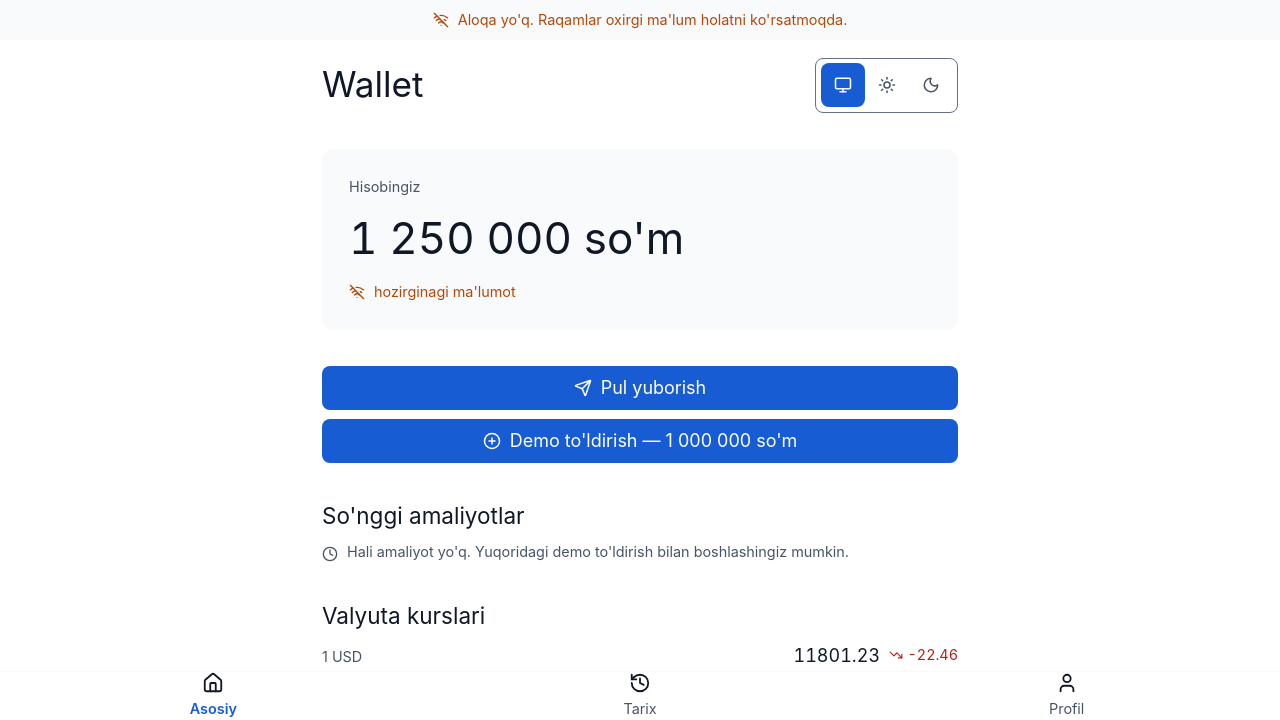
Test: a top-up that cannot be sent › is queued rather than lost, and says so without claiming it happened
Expected: the heading "Wallet" is shown, x1=322 y1=58 x2=424 y2=110
Step 1. Click the button "Demo to'ldirish — 1 000 000 so'm" → (640, 441), box x1=322 y1=419 x2=958 y2=463
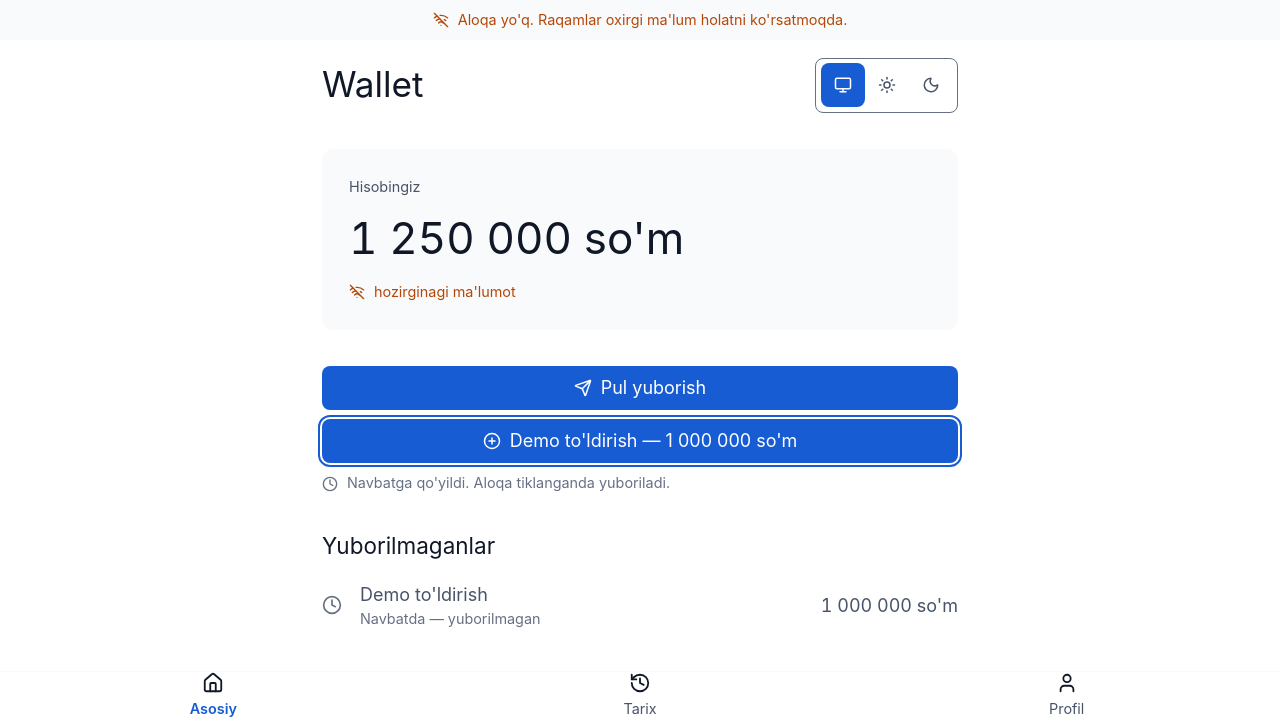
Result: the text "Navbatga qo'yildi. Aloqa tiklanganda yuboriladi." is shown at x1=347 y1=472 x2=670 y2=493
